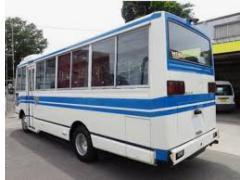bus: (14, 12, 218, 167)
